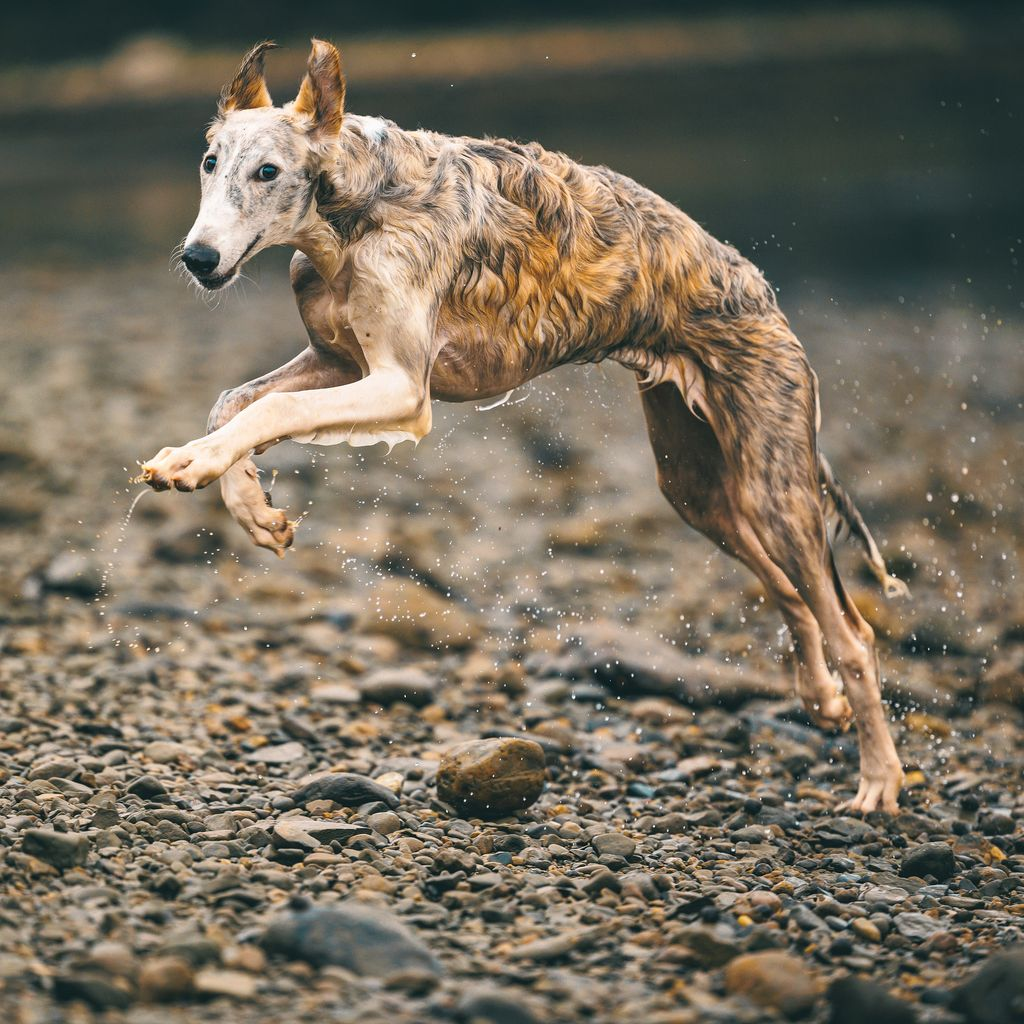borzoi: (78, 35, 956, 821)
